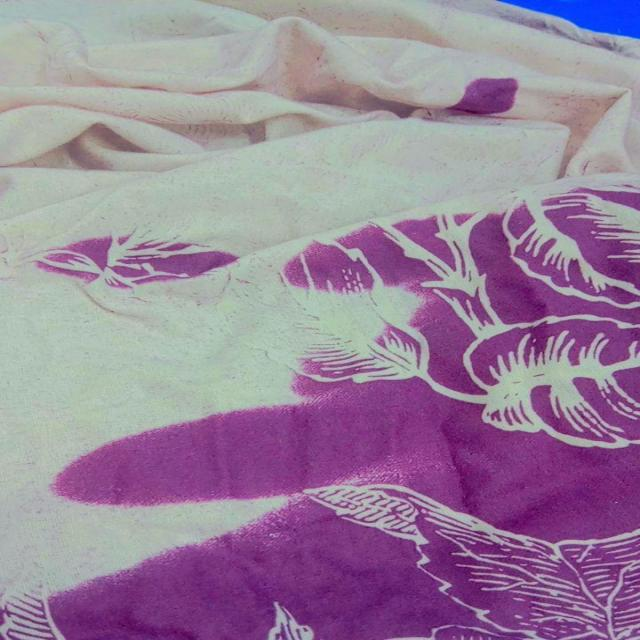baekra: (11, 16, 487, 635)
